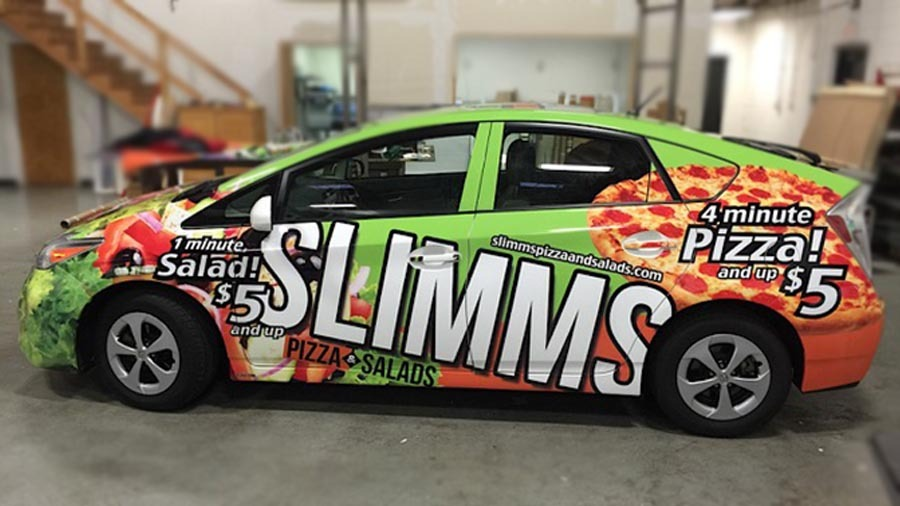Toyota Prius: (14, 99, 888, 443)
